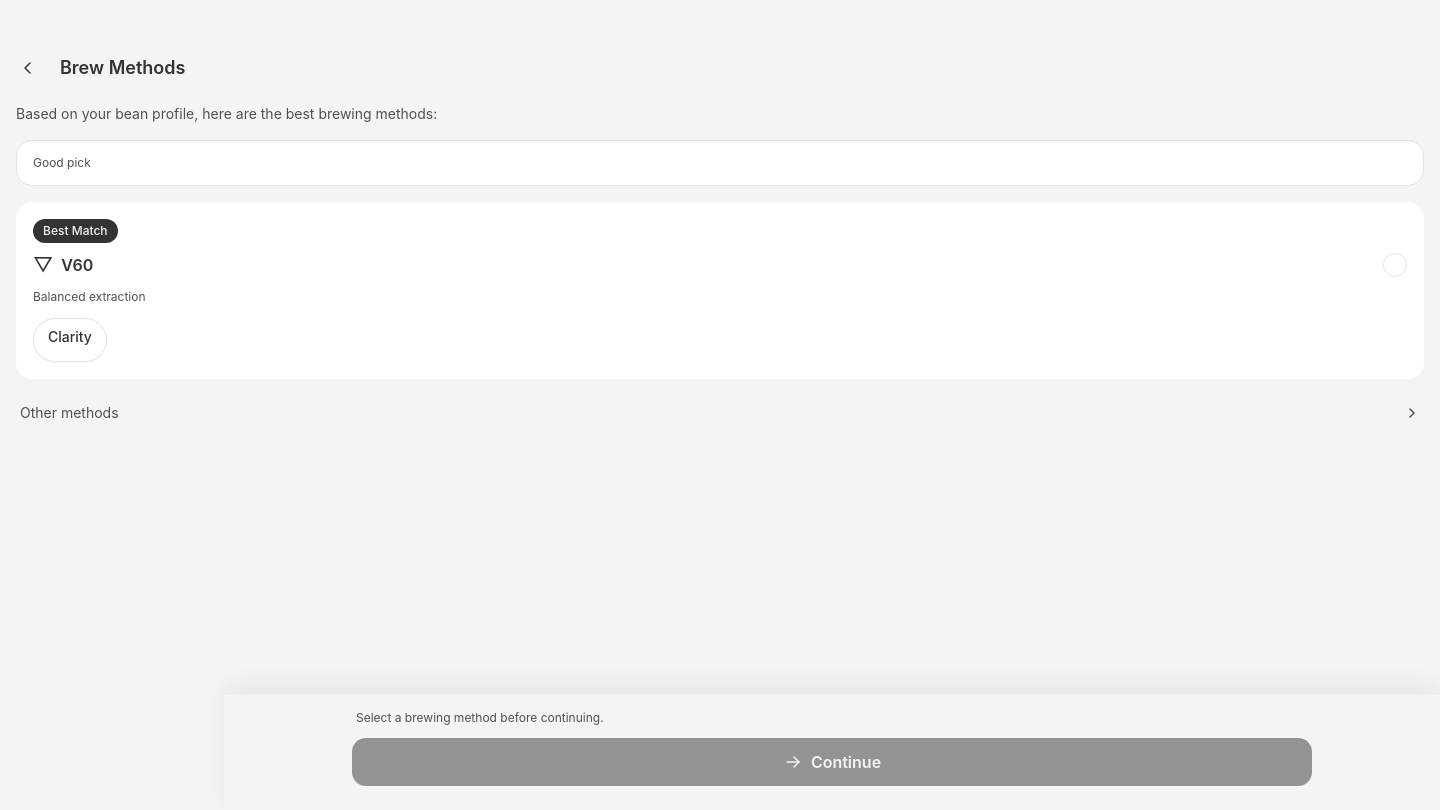
Scenario: MethodsPage generation safeguards › does not show check recipes for timeout on session-only generation branch
Click the button "Best Match ▽ V60 Balanced extraction clarity" at (720, 290), box [16, 202, 1424, 379]
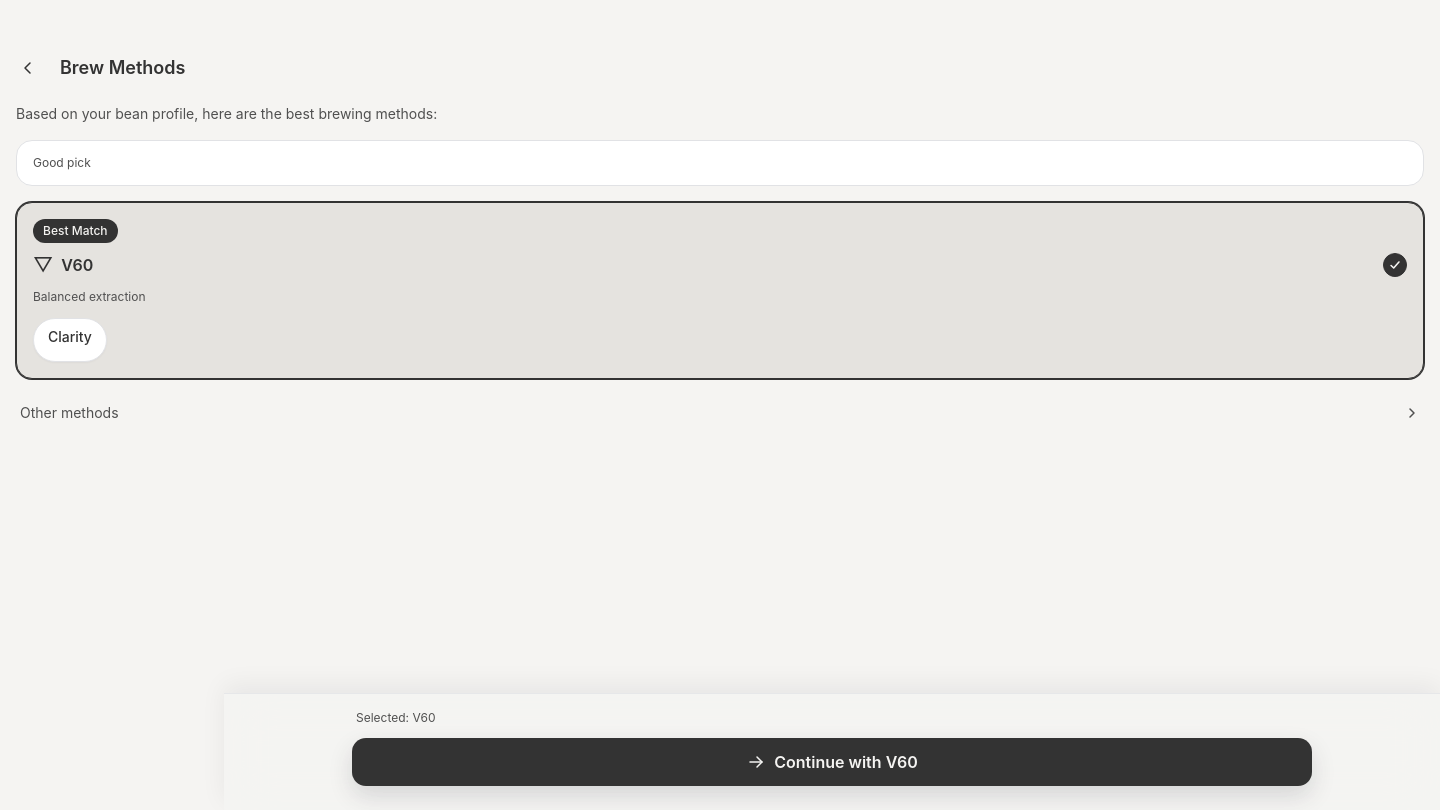
Click the button "Continue with V60" at (832, 762), box [352, 738, 1312, 786]
Wait 13000 ms
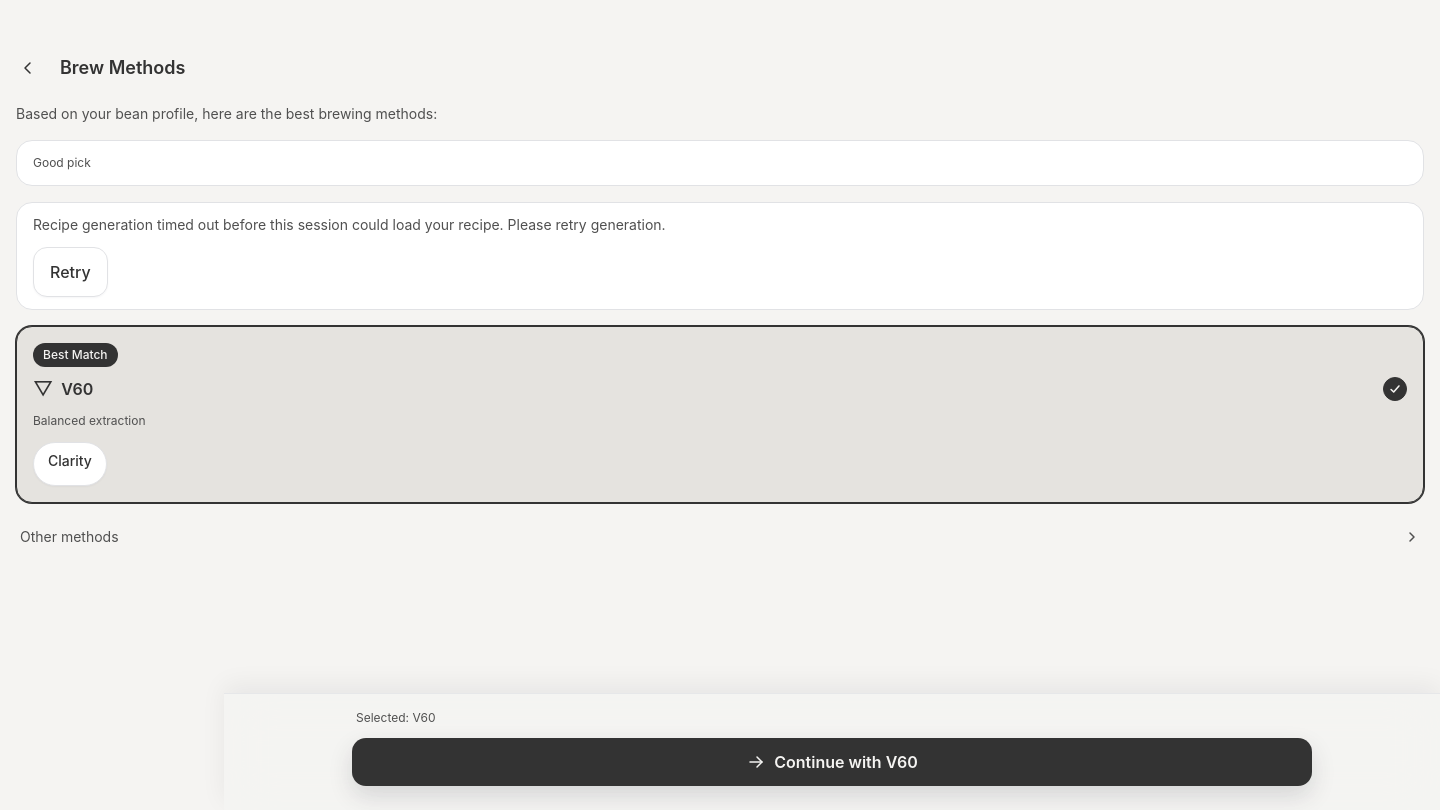
Now the text "timed out before this session could load your recipe" is shown, box [33, 216, 666, 232]
